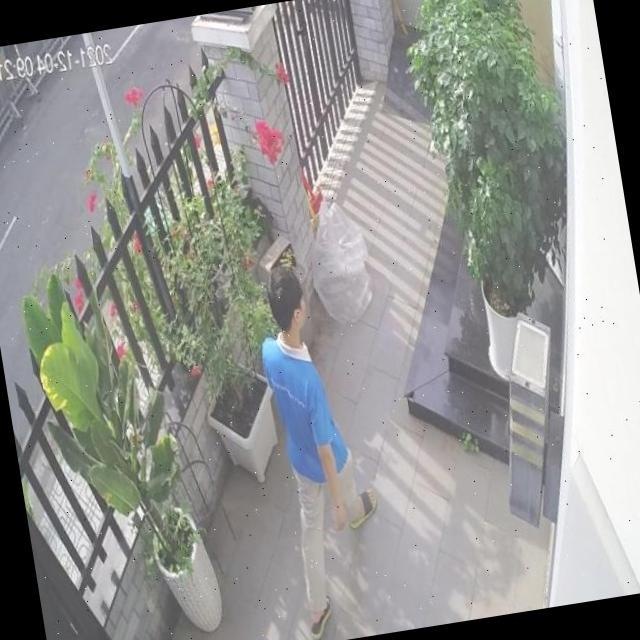person: (248, 252, 394, 639)
